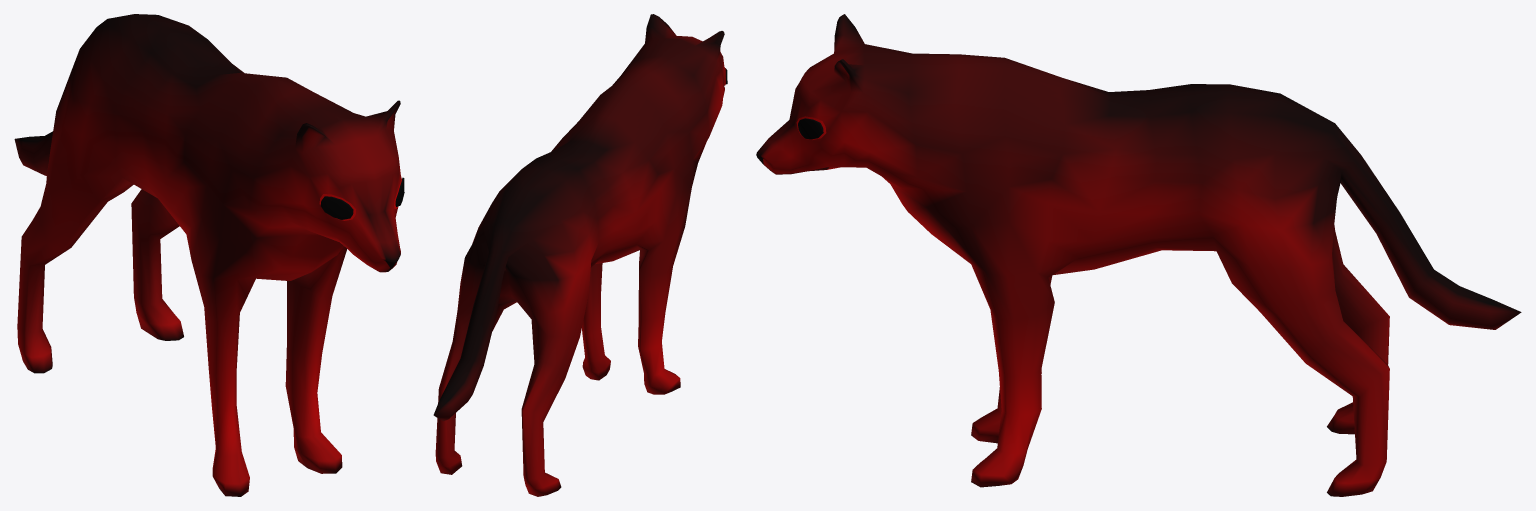
File: Animals_GrayWolf.fbx
3 views of the same model, side by side, from view 1: azimuth 30°, elevation 25°; view 2: azimuth 150°, elevation 25°; view 3: azimuth 270°, elevation 25° (orthographic). The views are drawn at different scales.
Visible parts, largest first — view 1: base; view 2: base; view 3: base.
Part boxes in pixels (bbox=[...]): base: bbox=[14, 14, 404, 496]; base: bbox=[433, 14, 727, 496]; base: bbox=[756, 14, 1521, 496].
Size of the model in its own units: 35.56 by 93.95 by 154.
